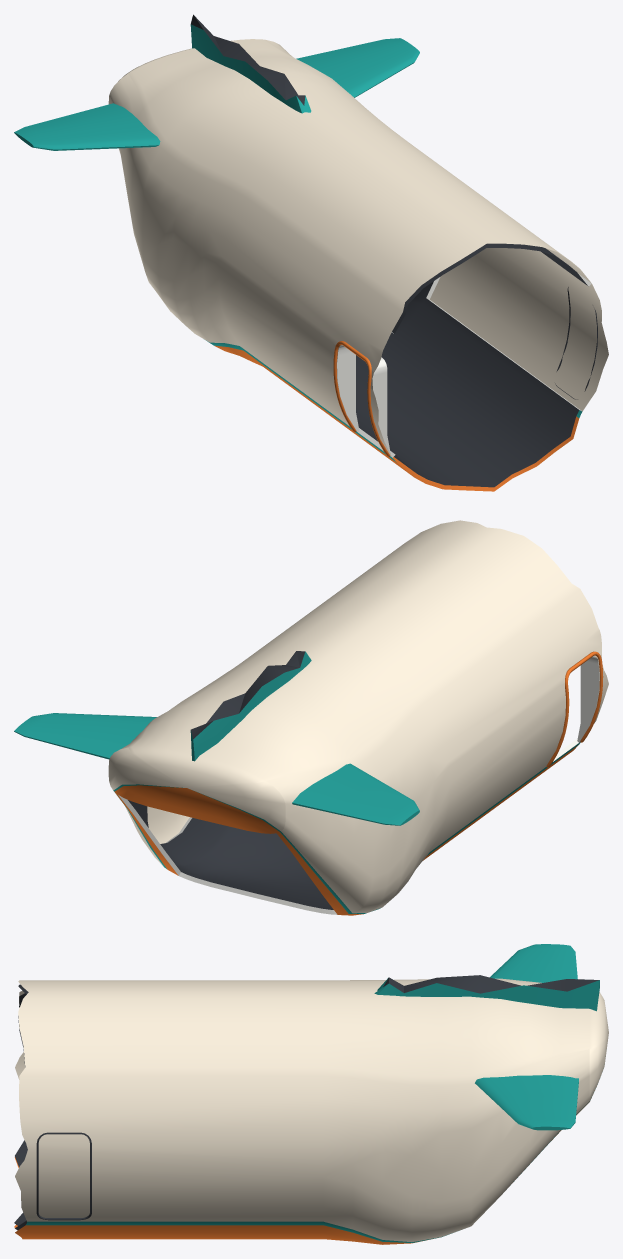
Rendered from RotCola.fbx.
3 renders of one model, top to bottom at view 1: azimuth 30°, elevation 25°; view 2: azimuth 150°, elevation 25°; view 3: azimuth 270°, elevation 25°, orthographic. The views are drawn at different scales.
Parts seen in each view (by area): view 1: RotCola; view 2: RotCola; view 3: RotCola.
Boxes of the visible parts, bbox=[...] form: RotCola: bbox=[14, 14, 608, 491]; RotCola: bbox=[14, 520, 608, 915]; RotCola: bbox=[14, 944, 608, 1244].
Bounding box in the file's own units: 29.2 × 18.49 × 40.2.
Materials: 1 (1 with a texture image).
